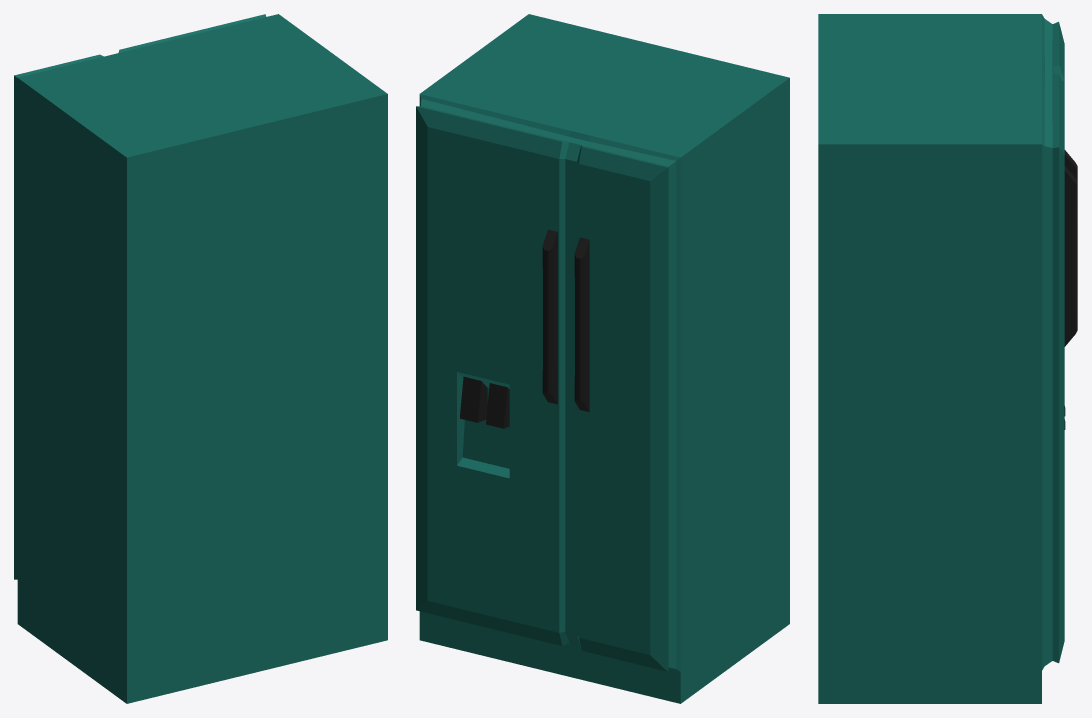
Rendered from RE_RKitchenFridge.FBX.
The picture shows the model from 3 angles, left to right: view 1: azimuth 30°, elevation 25°; view 2: azimuth 150°, elevation 25°; view 3: azimuth 270°, elevation 25°; orthographic projection. The views are drawn at different scales.
Parts seen in each view (by area): view 1: RE_RKitchenFridge; view 2: RE_RKitchenFridge; view 3: RE_RKitchenFridge.
Boxes of the visible parts, bbox=[...] form: RE_RKitchenFridge: bbox=[14, 14, 387, 703]; RE_RKitchenFridge: bbox=[416, 14, 789, 703]; RE_RKitchenFridge: bbox=[818, 14, 1077, 703].
Size of the model in its own units: 68 by 136 by 57.18.
